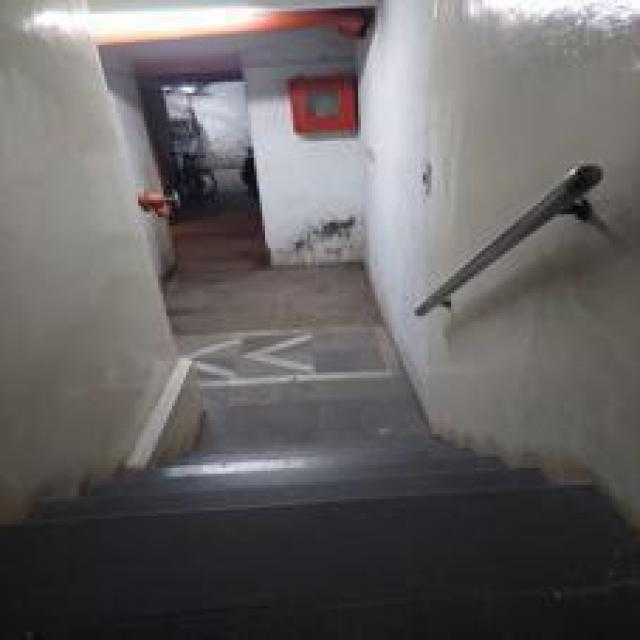downstair: (114, 424, 517, 562)
